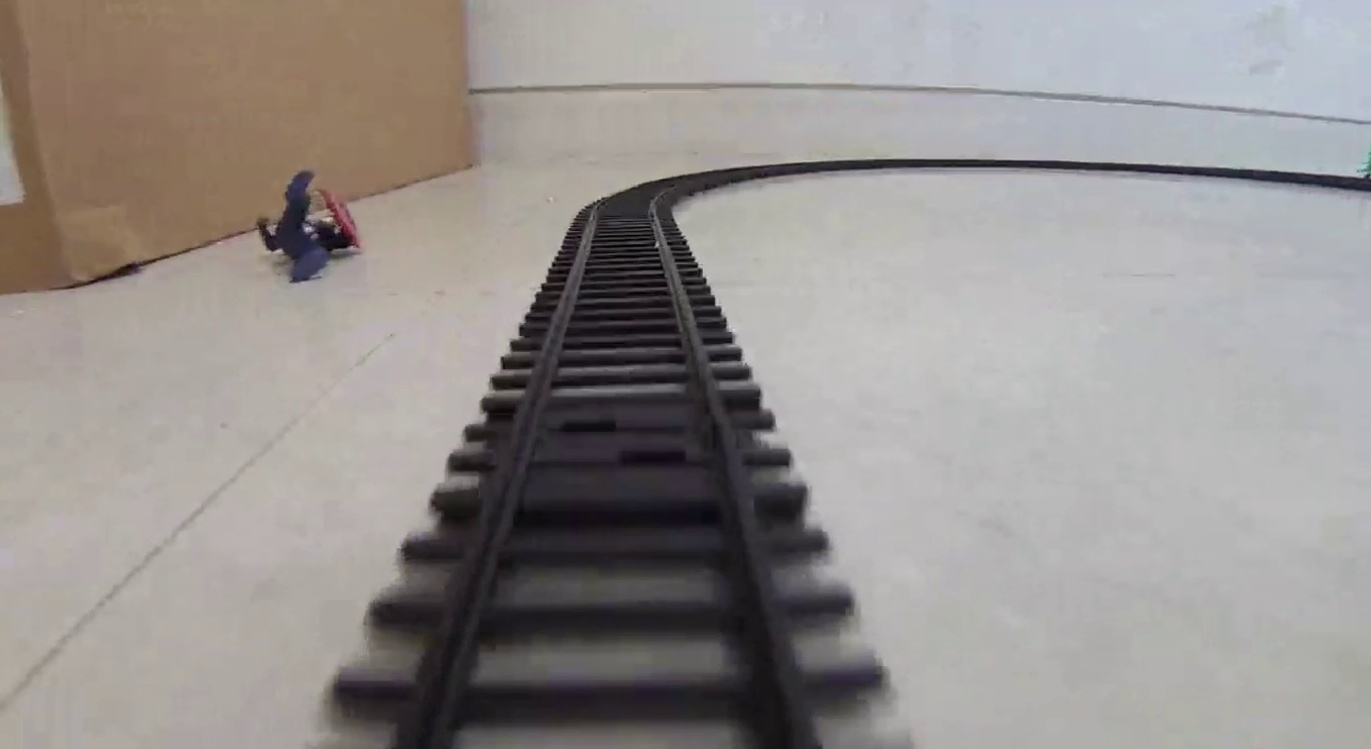people: (254, 167, 360, 289)
